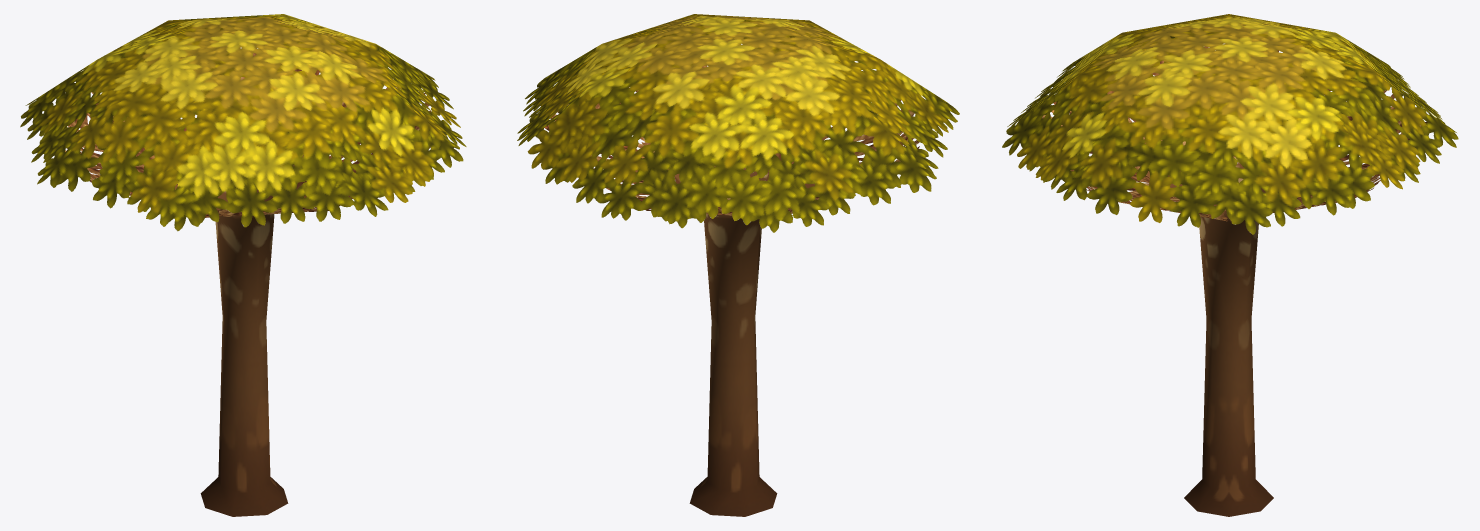
File: Tree_05b.FBX
3 renders of one model, left to right at view 1: azimuth 30°, elevation 25°; view 2: azimuth 150°, elevation 25°; view 3: azimuth 270°, elevation 25°, orthographic.
Parts seen in each view (by area): view 1: Tree_05b; view 2: Tree_05b; view 3: Tree_05b.
Boxes of the visible parts, bbox=[...] form: Tree_05b: bbox=[20, 14, 466, 516]; Tree_05b: bbox=[517, 14, 959, 516]; Tree_05b: bbox=[1002, 14, 1458, 516].
Size of the model in its own units: 71.83 by 75.6 by 71.83.
